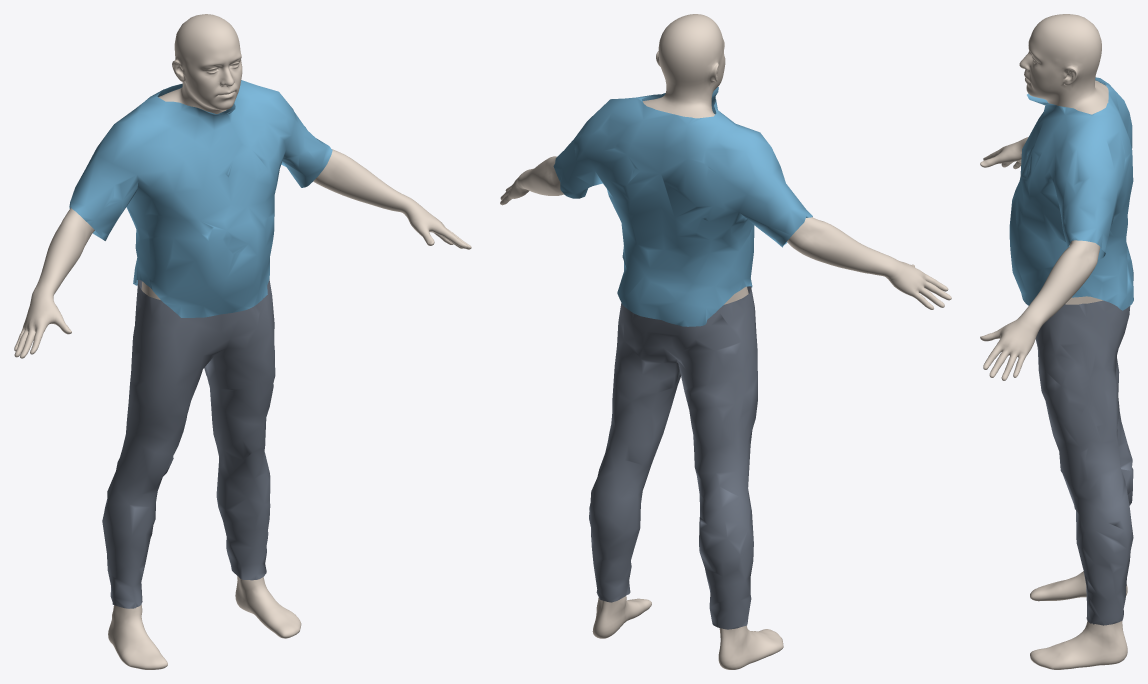
3 views of the same model, side by side, from view 1: azimuth 30°, elevation 25°; view 2: azimuth 150°, elevation 25°; view 3: azimuth 270°, elevation 25° (orthographic).
Visible parts, largest first — view 1: shirt, pants, body; view 2: shirt, pants, body; view 3: pants, shirt, body.
Boxes of the visible parts, x1,y1,x2,y2 form: shirt: [69, 80, 332, 317]; pants: [102, 279, 275, 608]; body: [14, 14, 471, 669]; shirt: [553, 87, 812, 326]; pants: [589, 286, 757, 629]; body: [500, 14, 951, 669]; pants: [1035, 300, 1133, 625]; shirt: [1009, 77, 1133, 310]; body: [980, 14, 1127, 669].
Size of the model in its own units: 1.34 by 1.78 by 0.4036.
